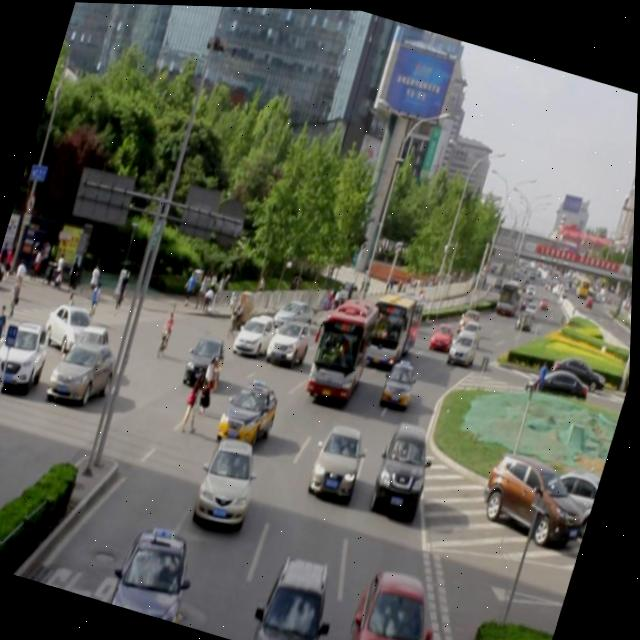car: (342, 557, 449, 640), (115, 520, 202, 622), (256, 547, 341, 640), (193, 429, 266, 529), (370, 413, 440, 516), (309, 415, 371, 502), (216, 374, 282, 450), (266, 308, 318, 372), (184, 329, 234, 390), (233, 307, 281, 360), (380, 354, 420, 408), (446, 323, 481, 367), (427, 315, 457, 353)
van: (306, 291, 382, 401), (364, 284, 425, 368)
